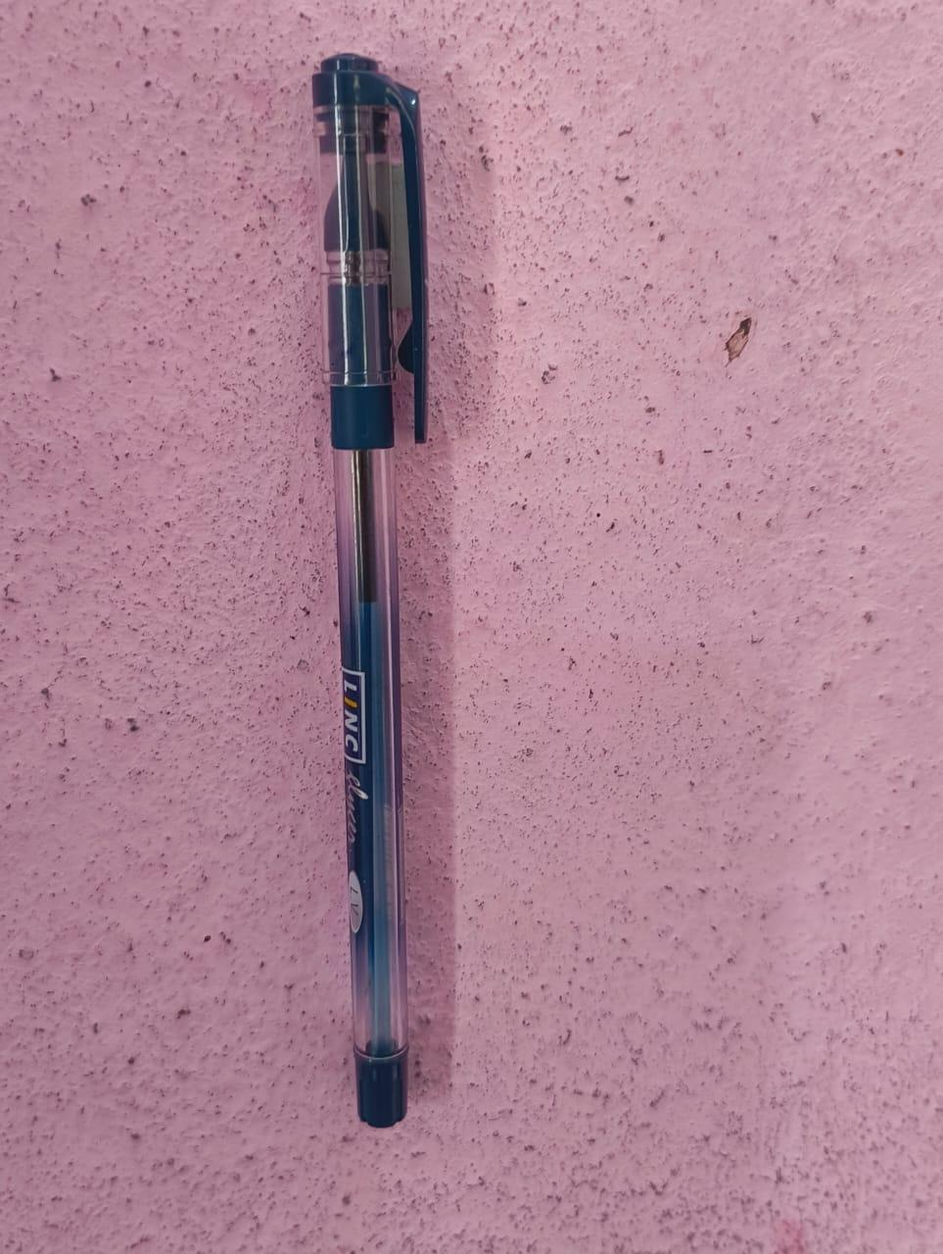pen: (273, 47, 443, 1157)
